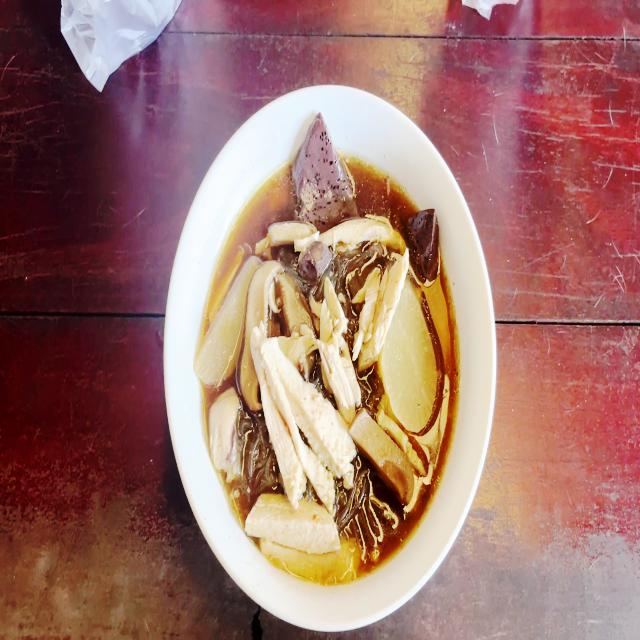boiled_chicken_blood_jelly: (294, 118, 354, 220), (409, 205, 440, 279), (294, 240, 328, 286)
chicken_shredded: (250, 329, 343, 501), (358, 250, 410, 360), (251, 495, 339, 549), (320, 278, 358, 402), (208, 388, 240, 476), (324, 216, 398, 246), (261, 220, 315, 246)
daikon_radish: (197, 254, 252, 392), (391, 306, 435, 419)
noodle: (205, 158, 460, 587)
